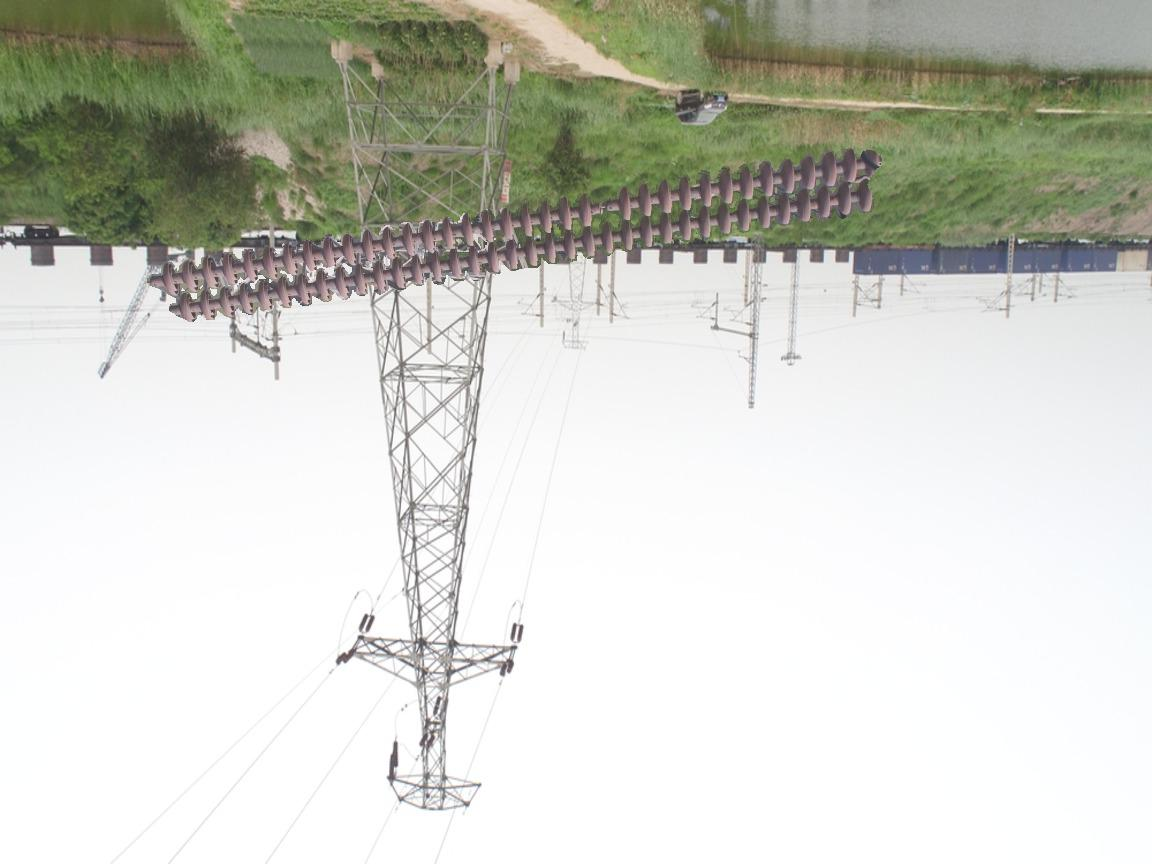insulator: (142, 141, 886, 325)
insulator_stringdrop: (577, 185, 636, 231)
